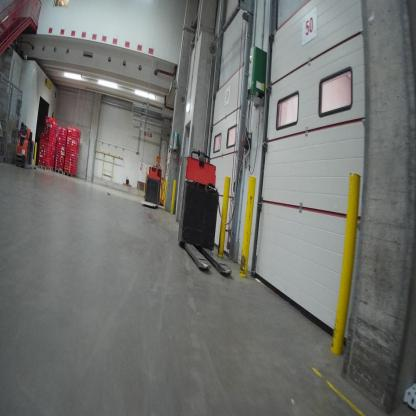pallet: (38, 164, 50, 172), (64, 171, 77, 177), (55, 168, 64, 175), (50, 166, 56, 173)
pallet_truck: (174, 142, 238, 278), (140, 160, 166, 207), (15, 121, 35, 169)
